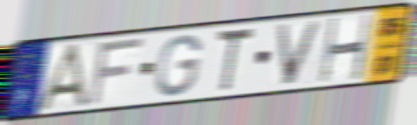A: (33, 41, 94, 113)
F: (85, 35, 148, 109)
G: (153, 32, 204, 99)
H: (318, 12, 374, 86)
T: (213, 25, 256, 95)
V: (274, 19, 326, 88)
